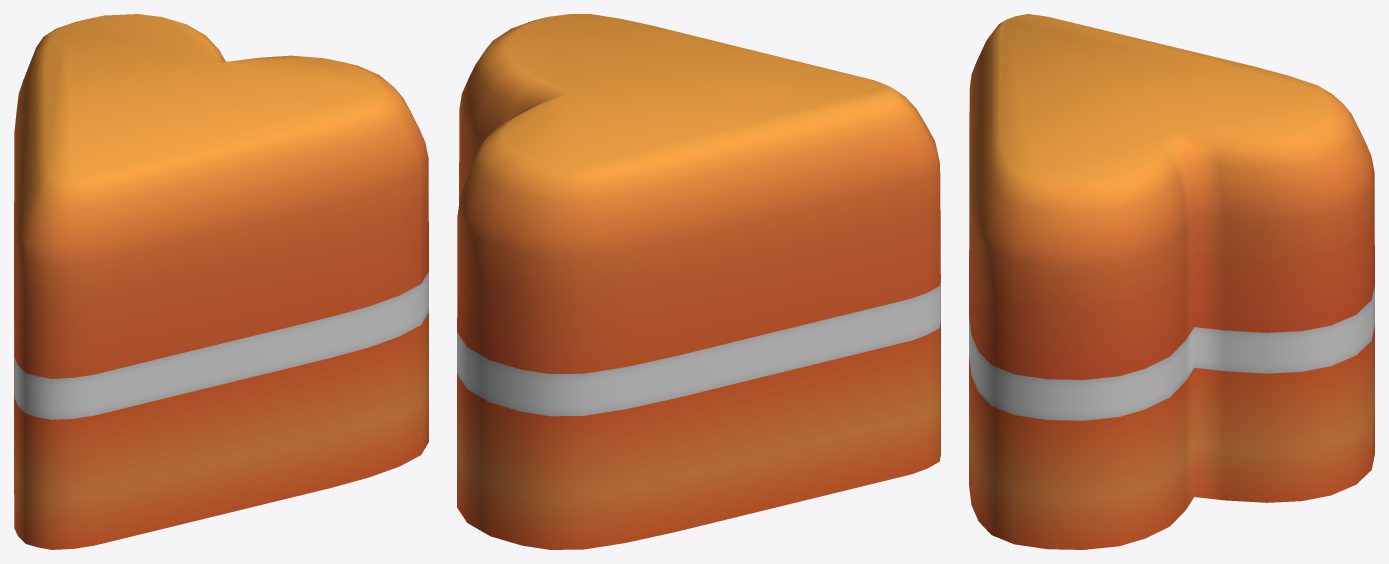
The model's file is cake06_slice.FBX.
3 views of the same model, side by side, from view 1: azimuth 30°, elevation 25°; view 2: azimuth 150°, elevation 25°; view 3: azimuth 270°, elevation 25° (orthographic). The views are drawn at different scales.
Parts seen in each view (by area): view 1: cake06_slice; view 2: cake06_slice; view 3: cake06_slice.
Boxes of the visible parts, x1,y1,x2,y2 form: cake06_slice: (14, 14, 428, 549); cake06_slice: (457, 14, 940, 549); cake06_slice: (969, 14, 1374, 549).
Bounding box in the file's own units: 0.0086 × 0.00692 × 0.00727.
